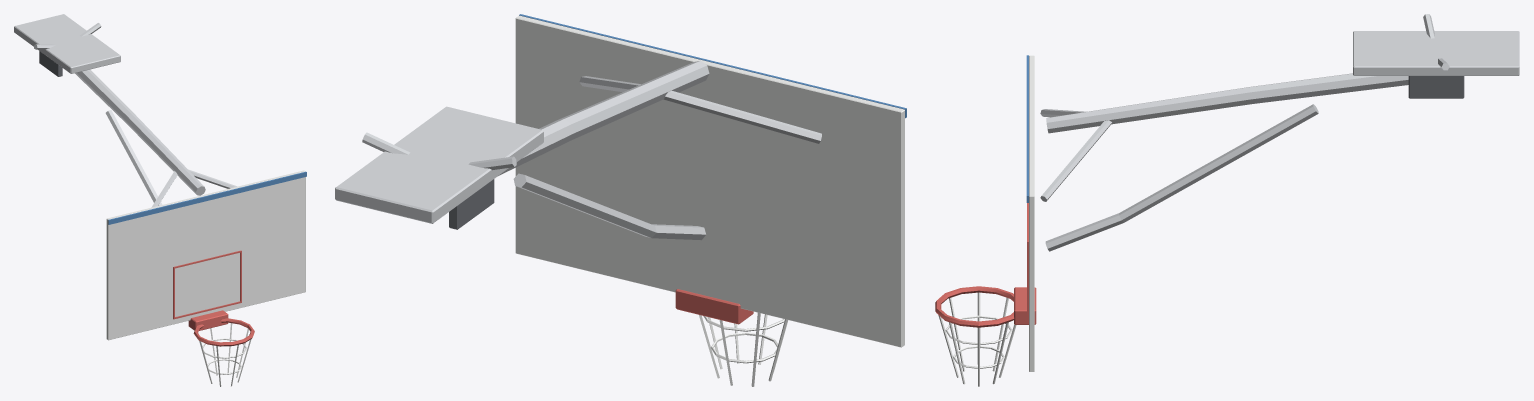
Rendered from community-sports-hall-and-changing-rooms-retractable-b-16264602__35091.glb.
The picture shows the model from 3 angles, left to right: view 1: azimuth 30°, elevation 25°; view 2: azimuth 150°, elevation 25°; view 3: azimuth 270°, elevation 25°; orthographic projection. The views are drawn at different scales.
Visible parts, largest first — view 1: hoop-arm/white, retractable-basketball-unit, hoop-arm/metal, hoop-arm/red, hoop-arm/blue; view 2: hoop-arm/white, retractable-basketball-unit, hoop-arm/metal, hoop-arm/red, hoop-arm/blue; view 3: hoop-arm/metal, retractable-basketball-unit, hoop-arm/white, hoop-arm/red.
Part boxes in pixels (box(x1,y1,x2,y2)): hoop-arm/white: box(106, 170, 305, 386); retractable-basketball-unit: box(14, 14, 120, 76); hoop-arm/metal: box(75, 69, 237, 207); hoop-arm/red: box(173, 250, 254, 346); hoop-arm/blue: box(108, 171, 306, 224); hoop-arm/white: box(515, 15, 904, 386); retractable-basketball-unit: box(335, 106, 543, 229); hoop-arm/metal: box(498, 60, 821, 240); hoop-arm/red: box(675, 289, 753, 324); hoop-arm/blue: box(519, 14, 906, 118); hoop-arm/metal: box(1040, 73, 1408, 251); retractable-basketball-unit: box(1353, 14, 1519, 98); hoop-arm/white: box(938, 55, 1034, 386); hoop-arm/red: box(935, 203, 1036, 327).
Bounding box in the file's own units: 1.8 × 2.02 × 3.16.
